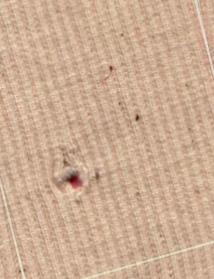hole: (52, 160, 98, 193)
stain: (124, 109, 160, 138), (102, 60, 126, 77)
